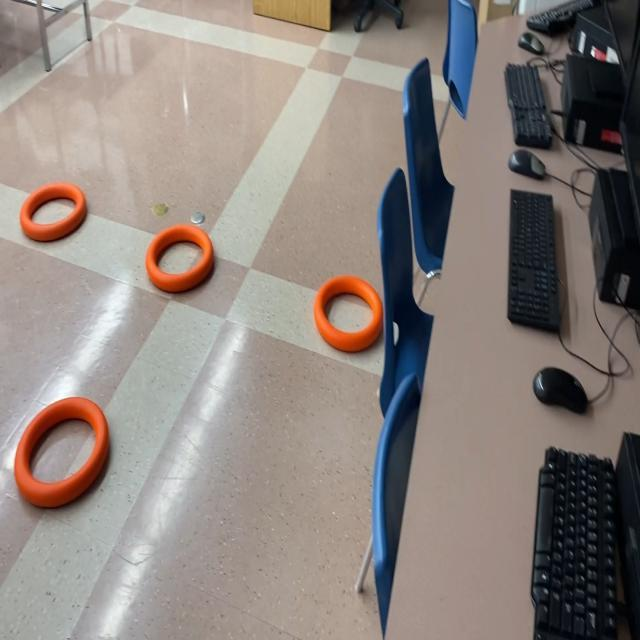note: (13, 394, 112, 512), (314, 271, 384, 356), (145, 223, 216, 296), (20, 181, 87, 248)
